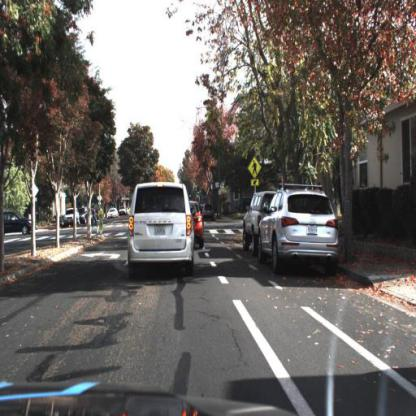car: (255, 181, 344, 280), (122, 179, 195, 280), (243, 192, 295, 254), (1, 206, 43, 240), (190, 202, 208, 254), (204, 200, 216, 224), (106, 208, 121, 221)
pedestrian: (91, 204, 100, 230)
